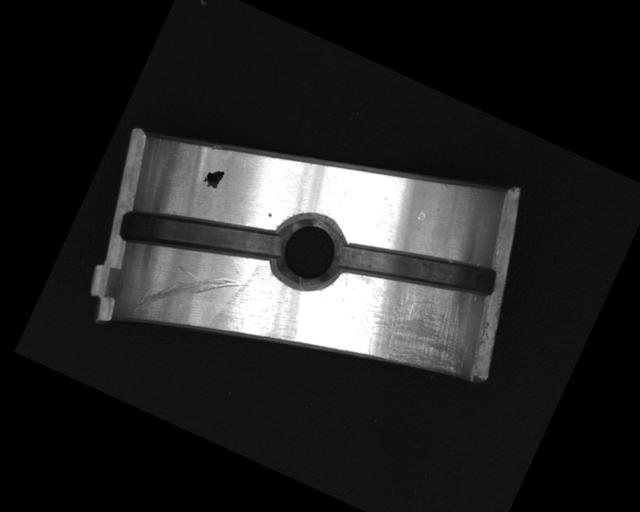blot: (200, 164, 225, 191)
bruise: (414, 209, 427, 224), (266, 211, 272, 217)
gap: (115, 171, 289, 300), (334, 208, 502, 330)
hole: (261, 203, 355, 301)
nick: (128, 241, 250, 352)
scratch: (327, 262, 489, 392)
